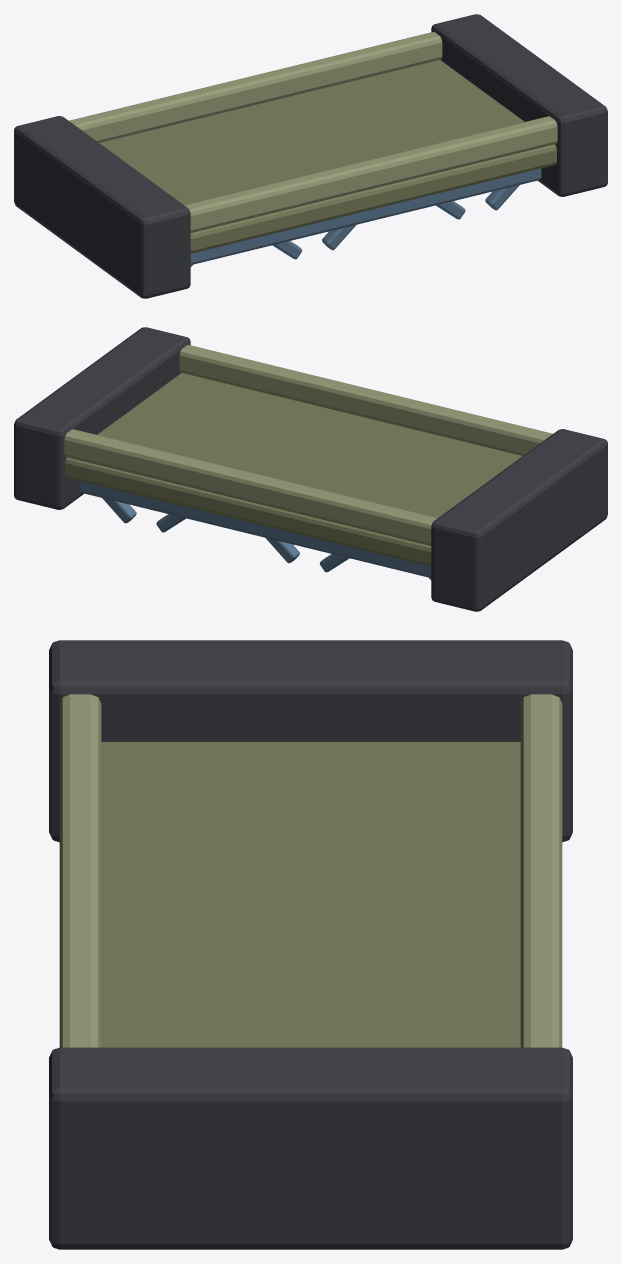
File: com_bridge.glb
3 renders of one model, top to bottom at view 1: azimuth 30°, elevation 25°; view 2: azimuth 150°, elevation 25°; view 3: azimuth 270°, elevation 25°, orthographic. The views are drawn at different scales.
Parts seen in each view (by area): view 1: com_bridge; view 2: com_bridge; view 3: com_bridge.
Part boxes in pixels (x1,y1,x2,y2): com_bridge: [14, 14, 607, 298]; com_bridge: [14, 327, 607, 611]; com_bridge: [49, 640, 572, 1249].
Bounding box in the file's own units: 2.06 × 0.4066 × 1.
